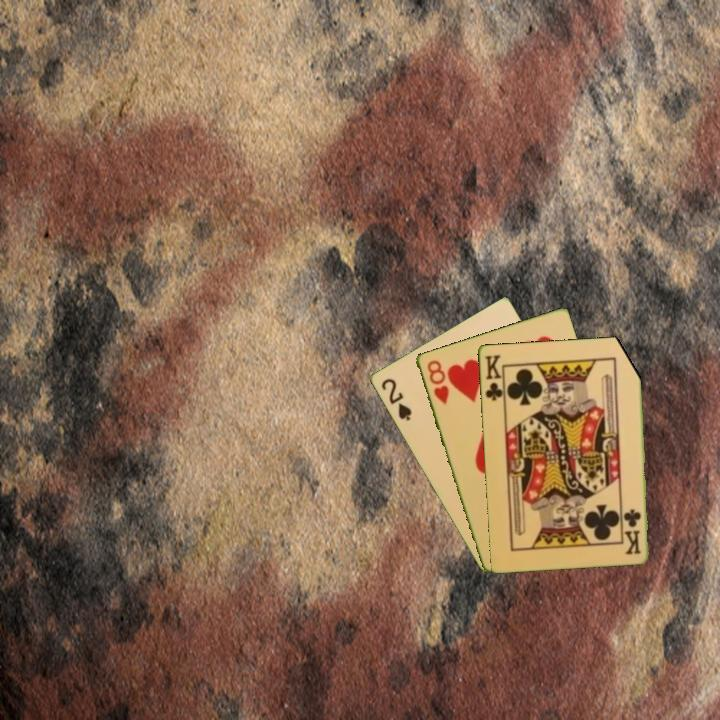2s: (377, 375, 414, 424)
8h: (423, 356, 452, 407)
Kc: (481, 351, 506, 406), (622, 505, 644, 557)
